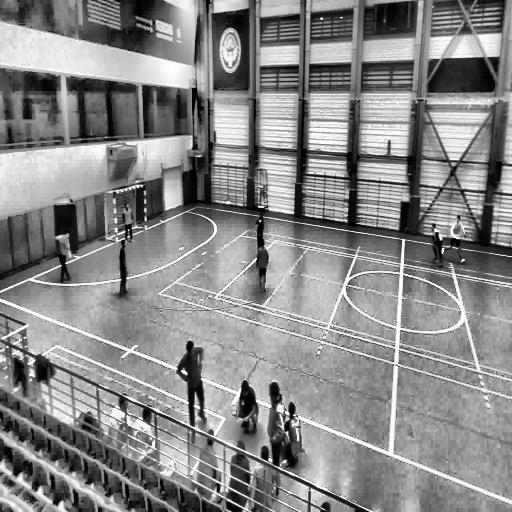ball: (226, 199, 232, 210)
player: (177, 340, 208, 434), (235, 378, 258, 436), (447, 215, 466, 264), (58, 228, 72, 282), (256, 236, 269, 292), (120, 238, 130, 296), (431, 223, 443, 264), (123, 202, 134, 243), (256, 207, 264, 260)
